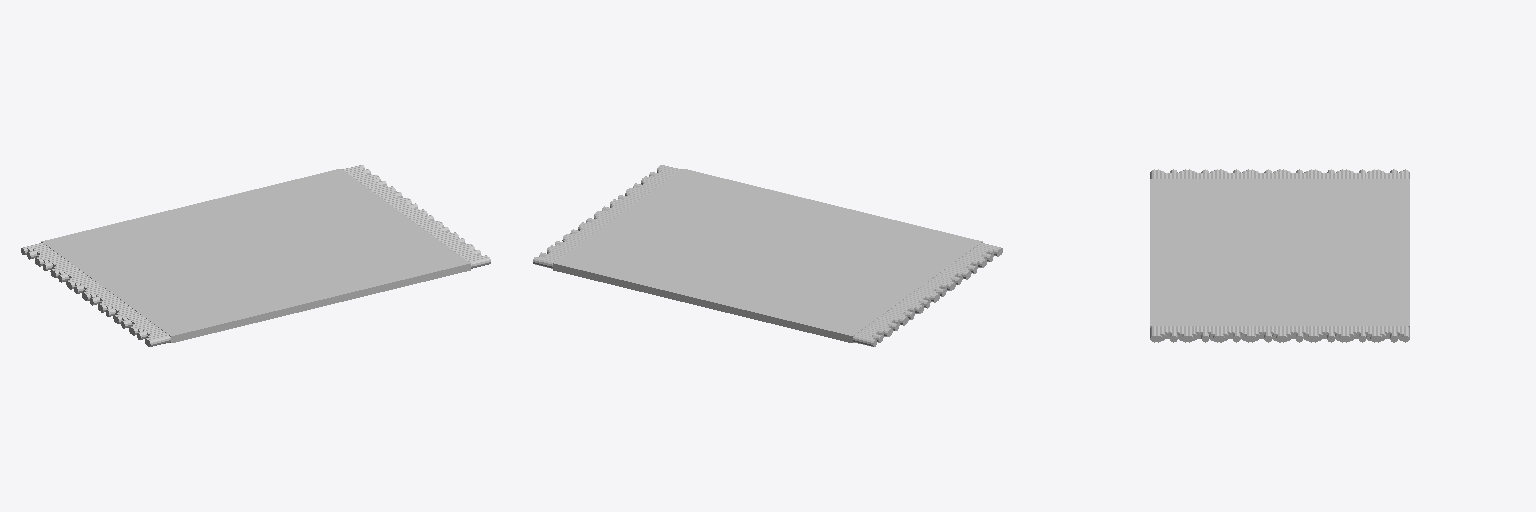
The model's file is RainbowRug.obj.
3 views of the same model, side by side, from view 1: azimuth 30°, elevation 25°; view 2: azimuth 150°, elevation 25°; view 3: azimuth 270°, elevation 25° (orthographic).
Parts seen in each view (by area): view 1: group[number redacted], group[number redacted], group[number redacted]; view 2: group[number redacted], group[number redacted], group[number redacted]; view 3: group[number redacted], group[number redacted], group[number redacted].
Part boxes in pixels (x1,y1,x2,y2): group[number redacted]: (41, 169, 470, 342); group[number redacted]: (21, 243, 170, 346); group[number redacted]: (342, 165, 490, 268); group[number redacted]: (553, 169, 982, 342); group[number redacted]: (853, 243, 1002, 346); group[number redacted]: (533, 165, 681, 268); group[number redacted]: (1150, 179, 1409, 327); group[number redacted]: (1150, 326, 1409, 342); group[number redacted]: (1150, 169, 1409, 178).
Size of the model in its own units: 1 by 0.02 by 0.66.